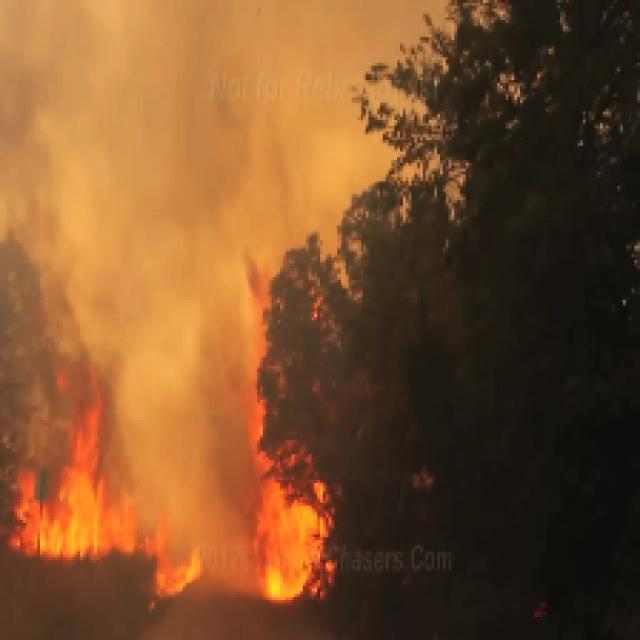Fire: (34, 309, 349, 600)
Smoke: (40, 28, 229, 272)
